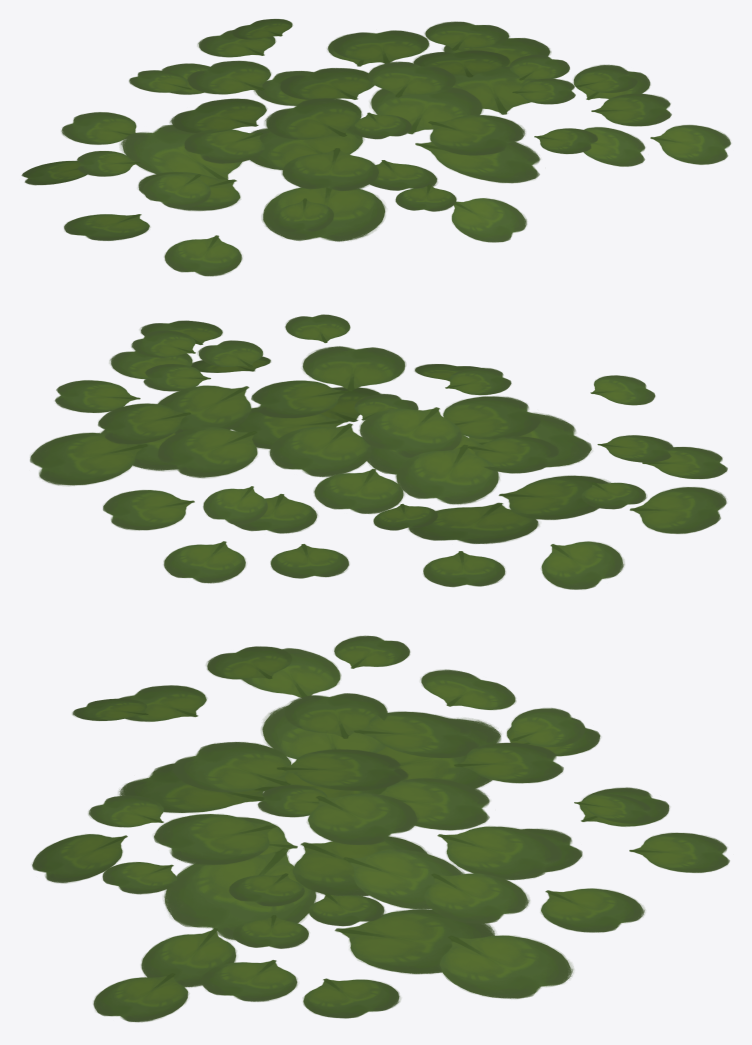
File: clove_001.glb
3 renders of one model, top to bottom at view 1: azimuth 30°, elevation 25°; view 2: azimuth 150°, elevation 25°; view 3: azimuth 270°, elevation 25°, orthographic. The views are drawn at different scales.
Parts seen in each view (by area): view 1: Plane.033; view 2: Plane.033; view 3: Plane.033.
Boxes of the visible parts, box(x1,y1,x2,y2) form: Plane.033: box(21, 19, 731, 276); Plane.033: box(30, 314, 727, 589); Plane.033: box(32, 635, 729, 1022).
Bounding box in the file's own units: 0.7596 × 0.0771 × 0.6081.
1 material, 1 textured.
